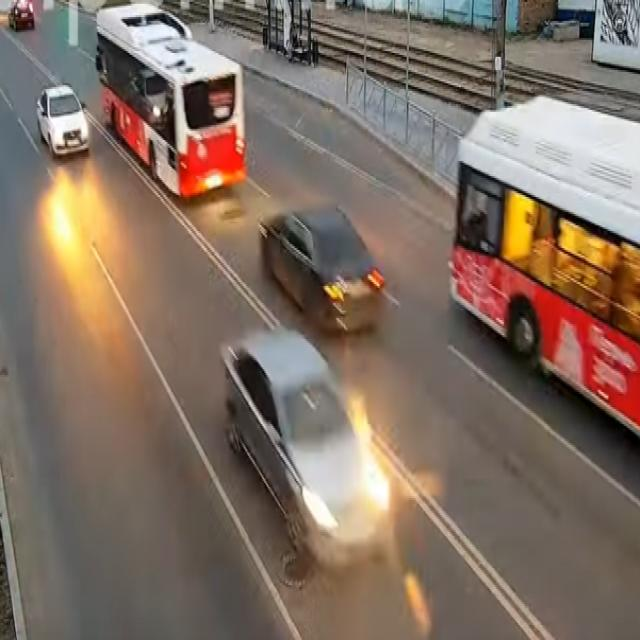non emergency car: (450, 95, 640, 440), (223, 331, 393, 566), (97, 4, 246, 196), (260, 203, 383, 338), (37, 83, 91, 161), (9, 1, 36, 33)
